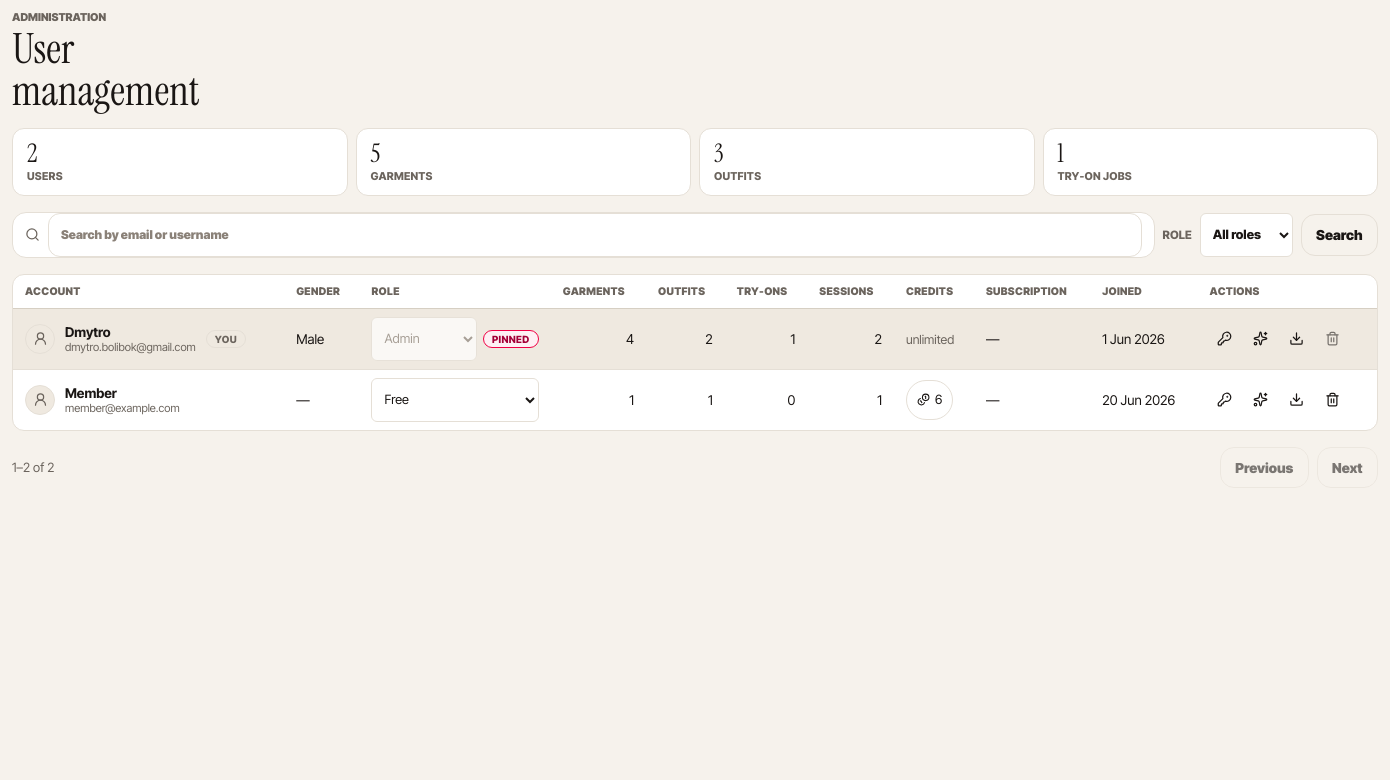
Test: AdminPage › adjusts a member credit balance from the credits cell
Expected: the text "unlimited" is shown, [906,332,954,347]
Click the button named "AI credits of Member: 6. Adjust" at (930, 400), box [906,380,953,420]
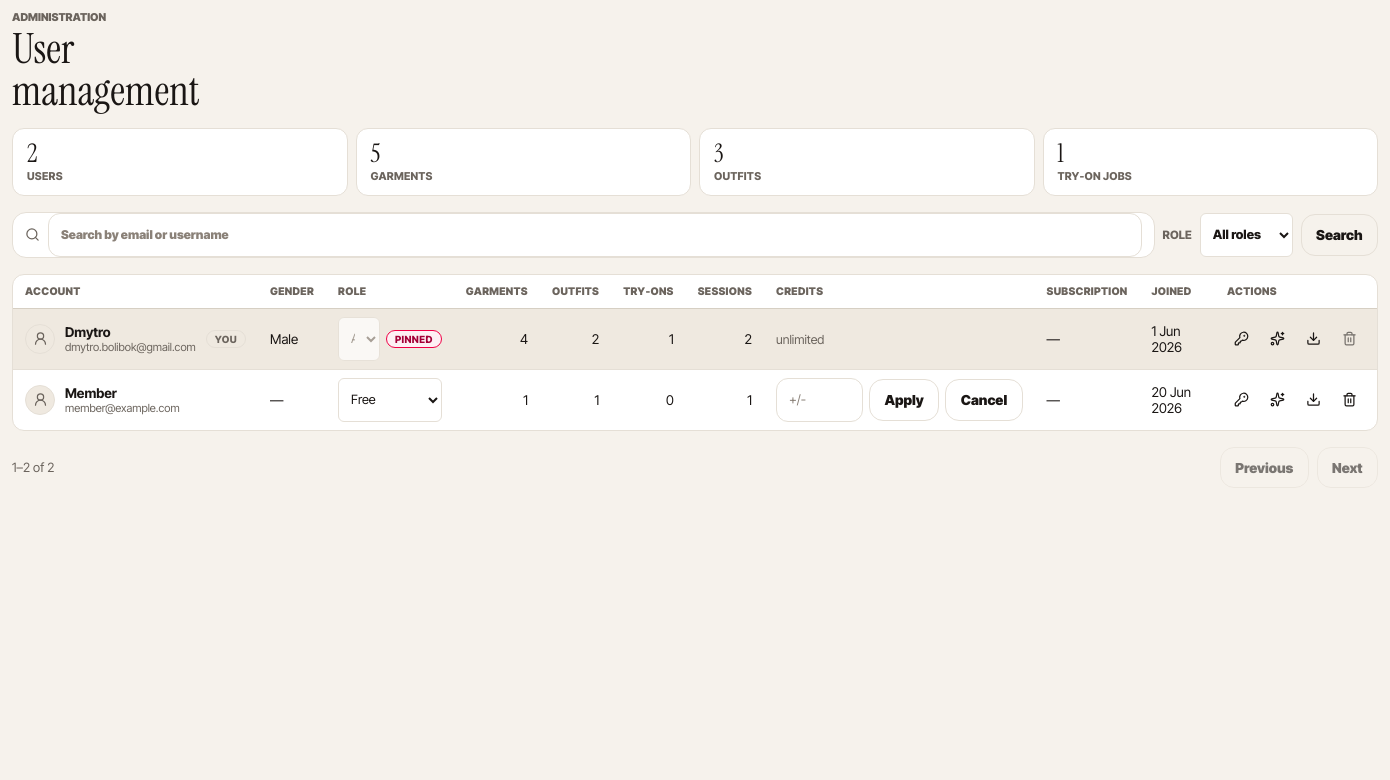
Type "10" into the field named "Credit delta" at (820, 400), box [776,378,863,422]
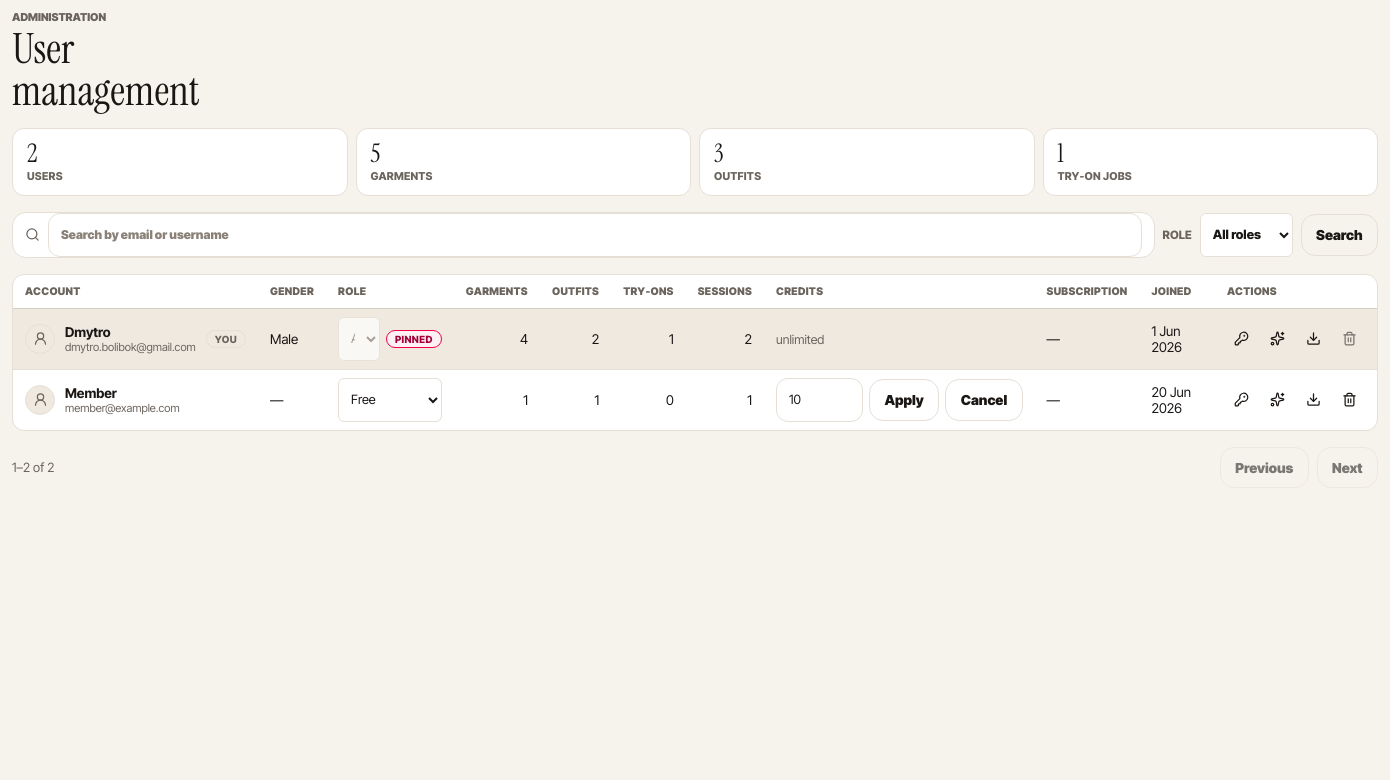
Click the button "Apply" at (904, 400), box [869,379,939,420]
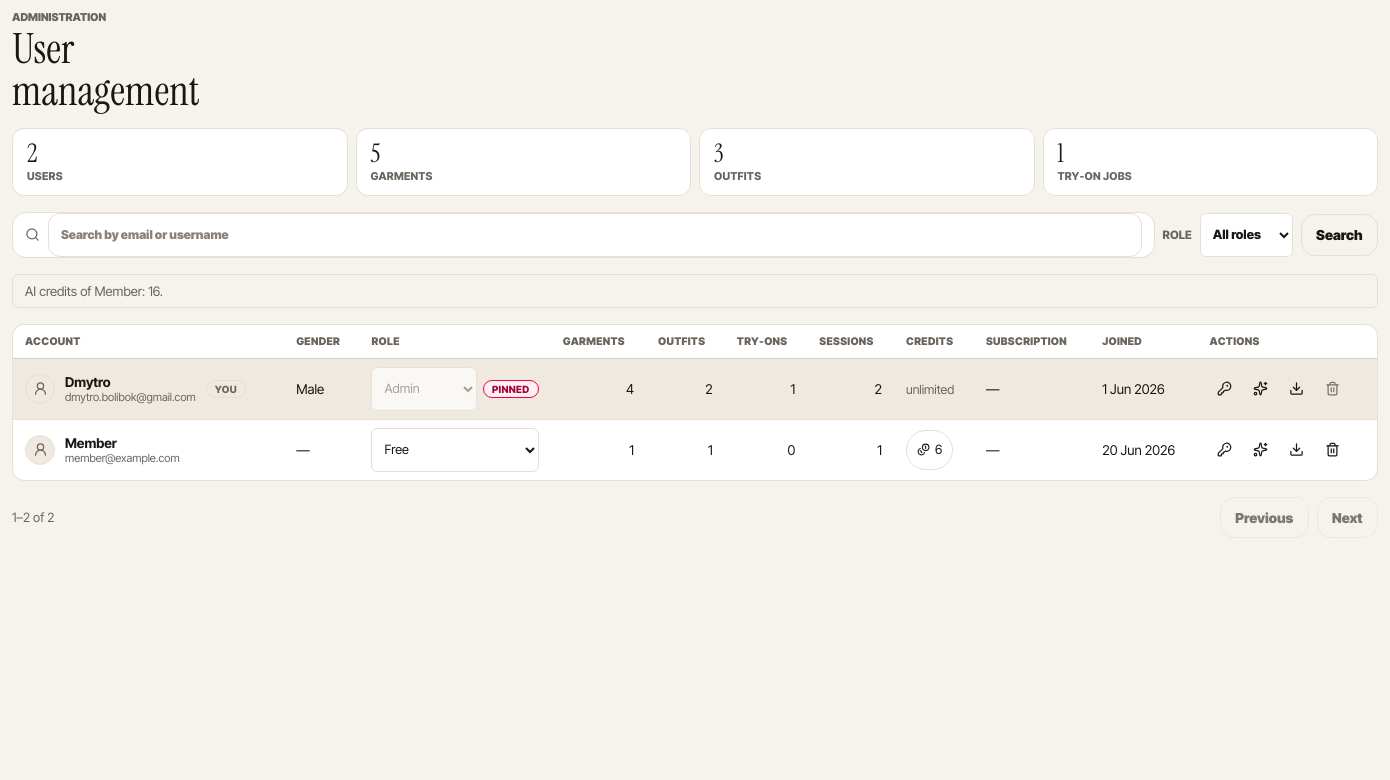
Expected: the text "AI credits of Member: 16." is shown, [12,274,1378,308]
